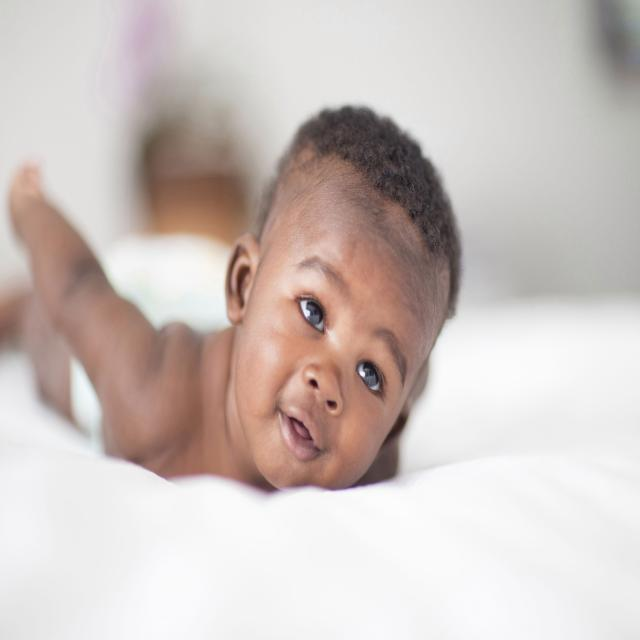child: (9, 108, 461, 492)
